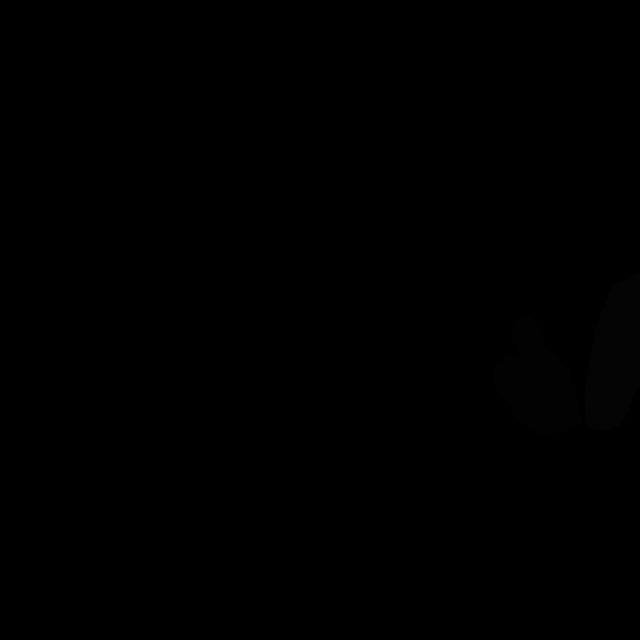cardboard: (493, 313, 584, 437)
soft_plastic: (584, 272, 640, 431)
